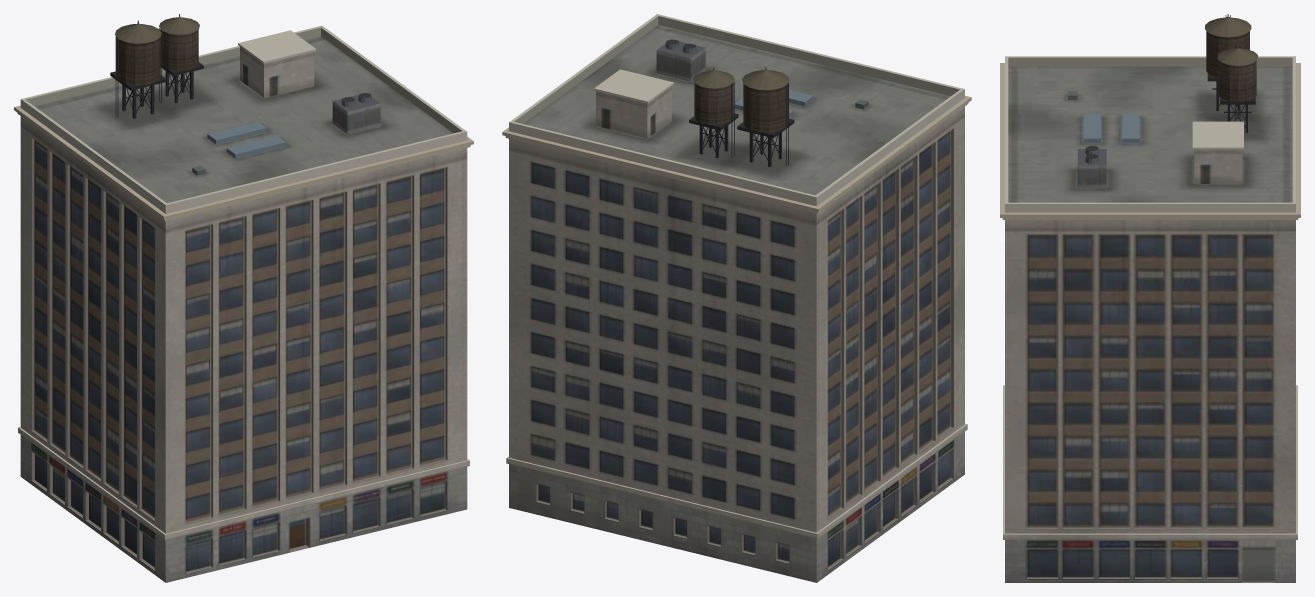
The model's file is nyc_prewar_c.glb.
The picture shows the model from 3 angles, left to right: view 1: azimuth 30°, elevation 25°; view 2: azimuth 150°, elevation 25°; view 3: azimuth 270°, elevation 25°; orthographic projection. The views are drawn at different scales.
Visible parts, largest first — view 1: nyc_prewar_c; view 2: nyc_prewar_c; view 3: nyc_prewar_c.
Boxes of the visible parts, x1=… form: nyc_prewar_c: x1=14, y1=14, x2=473, y2=582; nyc_prewar_c: x1=502, y1=14, x2=971, y2=582; nyc_prewar_c: x1=1000, y1=14, x2=1300, y2=582.
Size of the model in its own units: 37 by 52.55 by 31.
Materials: 1 (1 with a texture image).
